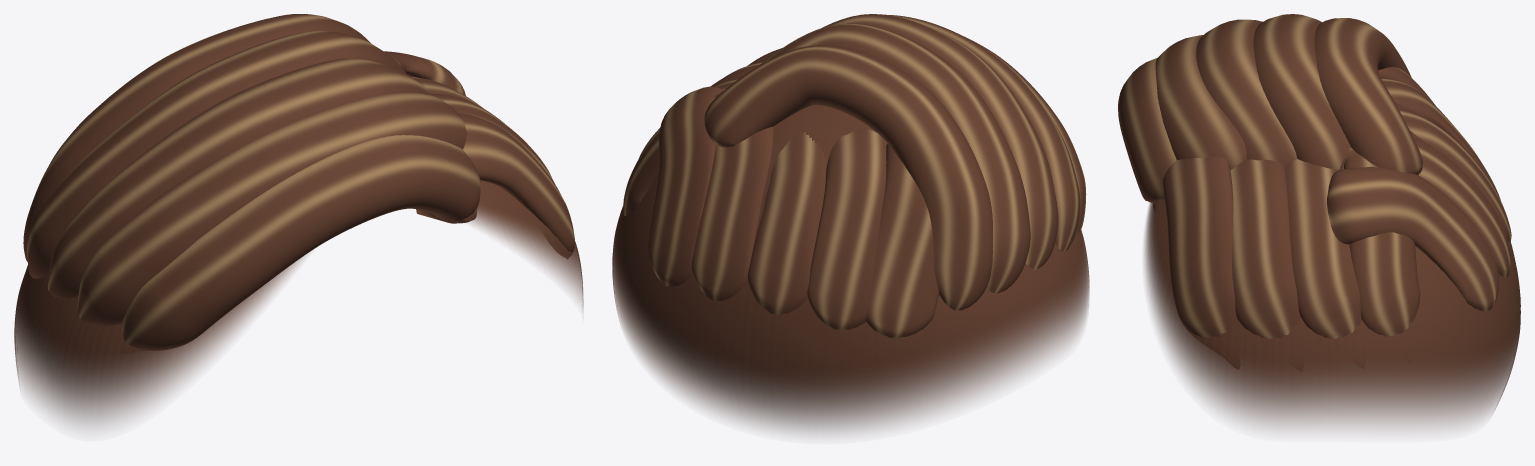
The model's file is Highlights-673158f0bb53252-hair.glb.
3 views of the same model, side by side, from view 1: azimuth 30°, elevation 25°; view 2: azimuth 150°, elevation 25°; view 3: azimuth 270°, elevation 25° (orthographic). The views are drawn at different scales.
Visible parts, largest first — view 1: 226 hair / Hair252 / sculpted locks, 226 hair / Hair252 / gentle tonal variation, 226 hair / Hair252 / restored153 fade coverage; view 2: 226 hair / Hair252 / sculpted locks, 226 hair / Hair252 / restored153 fade coverage, 226 hair / Hair252 / gentle tonal variation; view 3: 226 hair / Hair252 / sculpted locks, 226 hair / Hair252 / restored153 fade coverage, 226 hair / Hair252 / gentle tonal variation.
Boxes of the visible parts, bbox=[...] form: 226 hair / Hair252 / sculpted locks: bbox=[23, 14, 554, 325]; 226 hair / Hair252 / gentle tonal variation: bbox=[121, 113, 574, 350]; 226 hair / Hair252 / restored153 fade coverage: bbox=[14, 180, 583, 426]; 226 hair / Hair252 / sculpted locks: bbox=[623, 14, 1080, 338]; 226 hair / Hair252 / restored153 fade coverage: bbox=[612, 105, 1089, 434]; 226 hair / Hair252 / gentle tonal variation: bbox=[747, 36, 1086, 330]; 226 hair / Hair252 / sculpted locks: bbox=[1155, 14, 1511, 338]; 226 hair / Hair252 / restored153 fade coverage: bbox=[1144, 101, 1520, 429]; 226 hair / Hair252 / gentle tonal variation: bbox=[1118, 58, 1500, 337].
Bounding box in the file's own units: 0.976 × 0.7527 × 0.7562.
3 materials, 3 textured.
